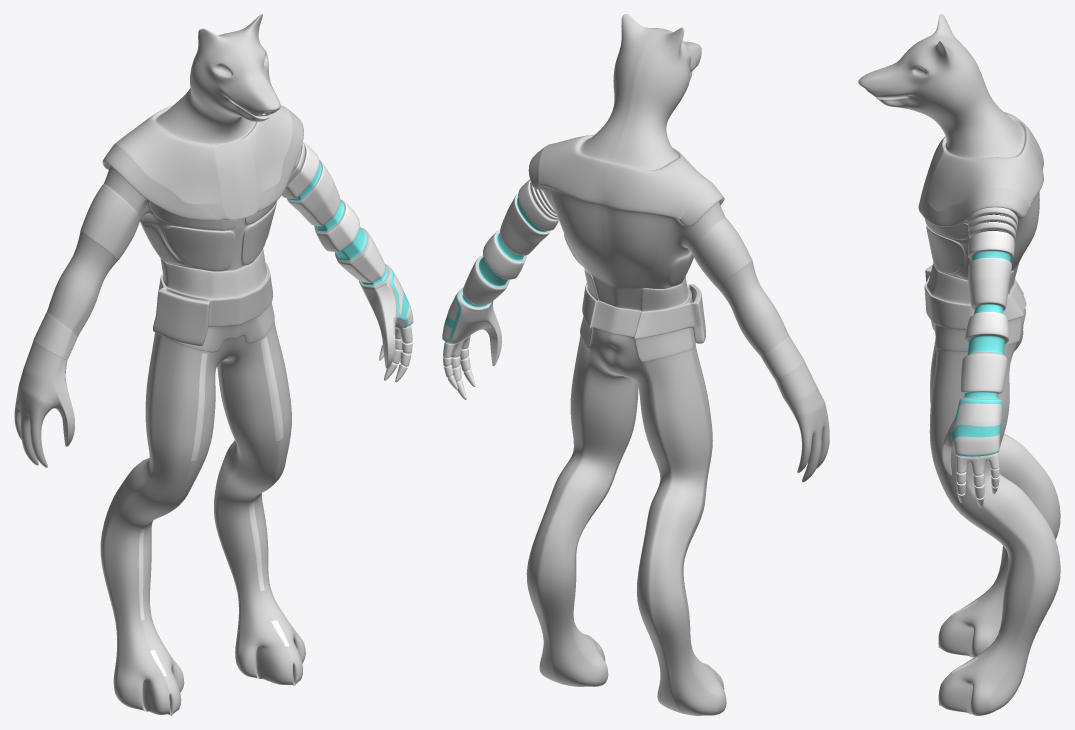
The model's file is P2_enemy.fbx.
The picture shows the model from 3 angles, left to right: view 1: azimuth 30°, elevation 25°; view 2: azimuth 150°, elevation 25°; view 3: azimuth 270°, elevation 25°; orthographic projection. The views are drawn at different scales.
Parts seen in each view (by area): view 1: smooth; view 2: smooth; view 3: smooth.
Part boxes in pixels (left/top/right/bottom): smooth: left=14, top=14, right=413, bottom=715; smooth: left=442, top=14, right=829, bottom=715; smooth: left=858, top=14, right=1060, bottom=715.
Bounding box in the file's own units: 2.75 × 4.66 × 1.32.
